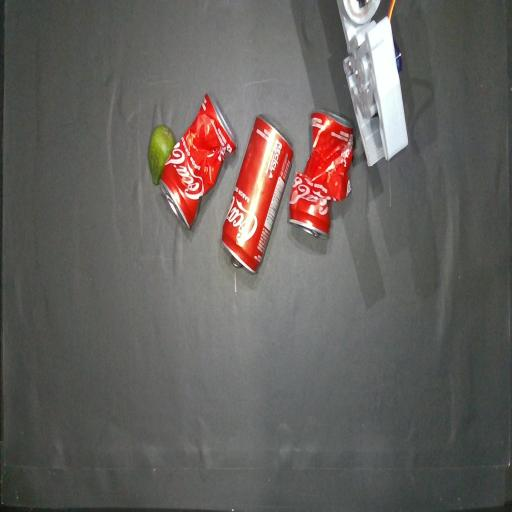higo: (148, 125, 175, 185)
lata: (222, 117, 293, 273)
lata_defectuoso: (160, 94, 236, 229), (289, 111, 353, 237)
